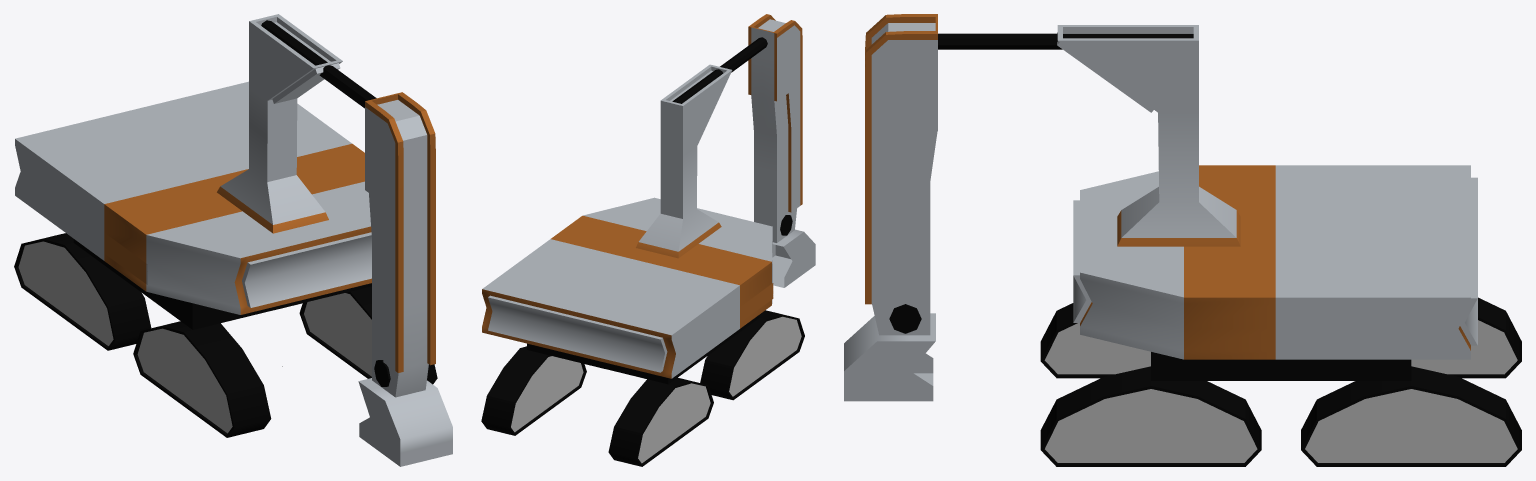
The model's file is excavator_noAnimation.fbx.
3 views of the same model, side by side, from view 1: azimuth 30°, elevation 25°; view 2: azimuth 150°, elevation 25°; view 3: azimuth 270°, elevation 25° (orthographic). The views are drawn at different scales.
Visible parts, largest first — view 1: polySurface22; view 2: polySurface22; view 3: polySurface22.
Boxes of the visible parts, <box> form: polySurface22: <box>14,14,452,466</box>; polySurface22: <box>481,14,815,466</box>; polySurface22: <box>844,14,1521,466</box>.
Bounding box in the file's own units: 472 × 648 × 1023.
